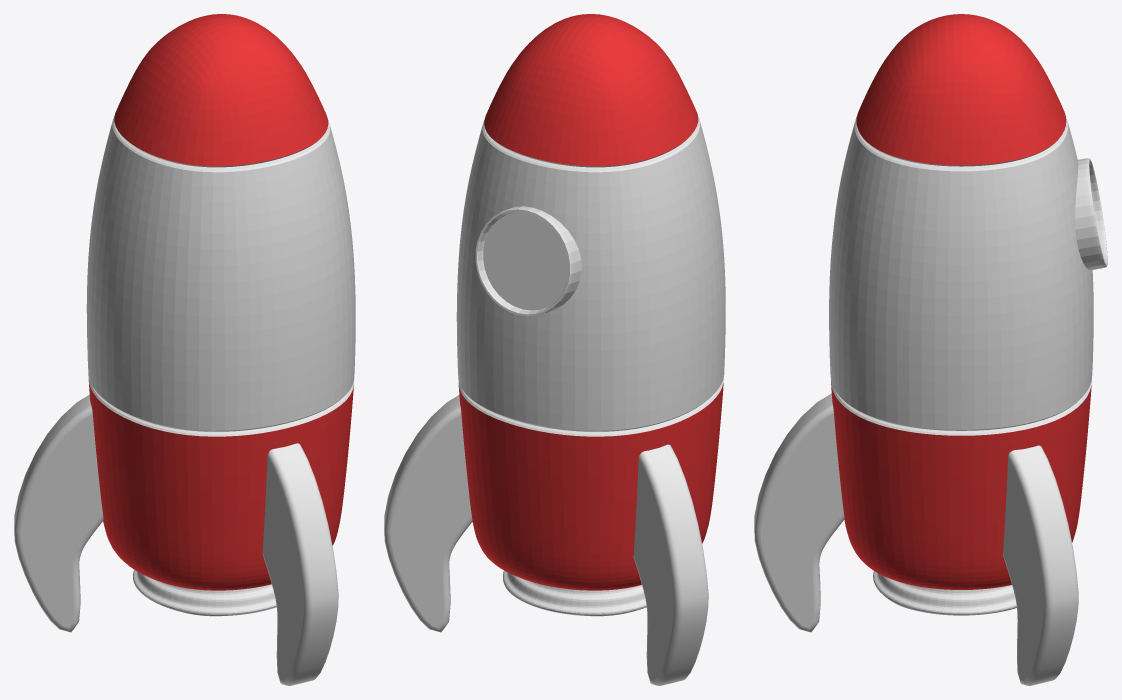
Rendered from Rocket.fbx.
3 views of the same model, side by side, from view 1: azimuth 30°, elevation 25°; view 2: azimuth 150°, elevation 25°; view 3: azimuth 270°, elevation 25° (orthographic).
Parts seen in each view (by area): view 1: Cube, Fin 1, Fin 2; view 2: Cube, Fin 2, Fin 3, Cylinder; view 3: Cube, Fin 1, Fin 3, Cylinder.
Part boxes in pixels (bbox=[...]): Cube: bbox=[86, 14, 355, 616]; Fin 1: bbox=[262, 443, 338, 685]; Fin 2: bbox=[14, 395, 103, 632]; Cube: bbox=[456, 14, 725, 616]; Fin 2: bbox=[633, 444, 708, 685]; Fin 3: bbox=[384, 395, 472, 632]; Cylinder: bbox=[475, 206, 581, 316]; Cube: bbox=[829, 14, 1093, 615]; Fin 1: bbox=[754, 393, 844, 632]; Fin 3: bbox=[1003, 445, 1078, 685]; Cylinder: bbox=[1075, 158, 1107, 270].
Size of the model in its own units: 289 by 519 by 274.
